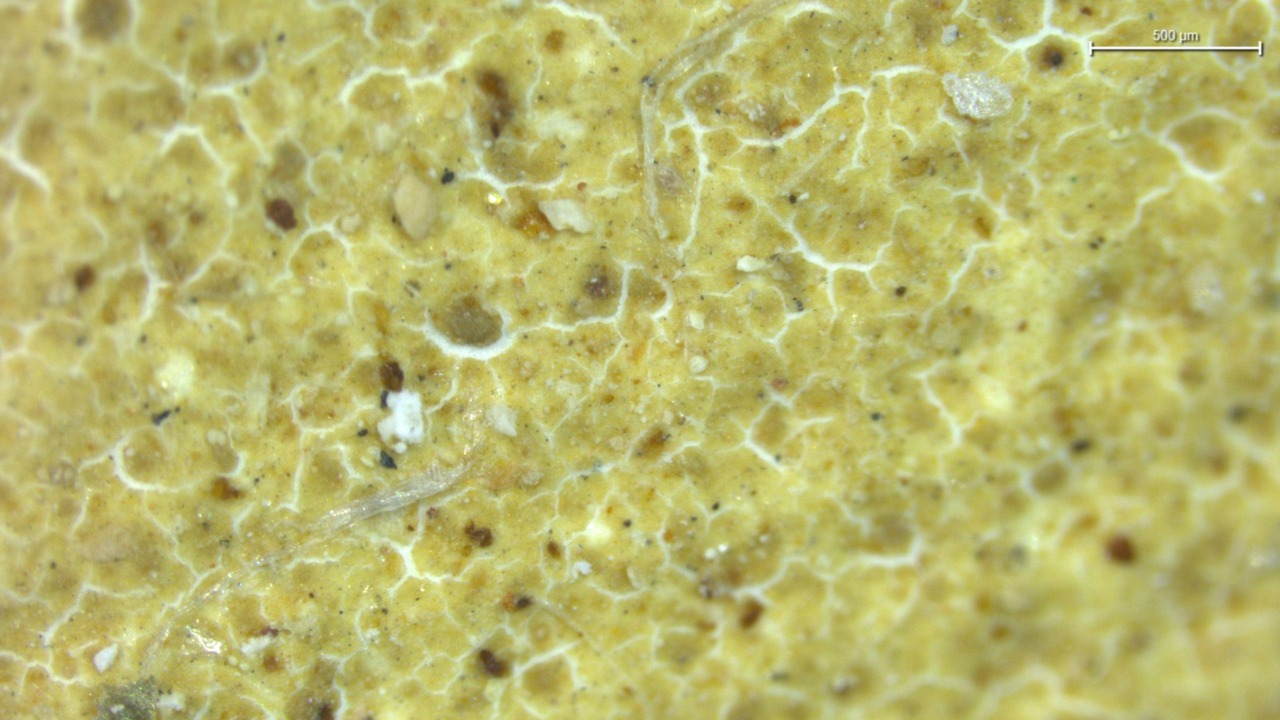microplastic_fragment: (944, 72, 1013, 119), (376, 388, 424, 453), (393, 173, 439, 240), (538, 199, 592, 233)
